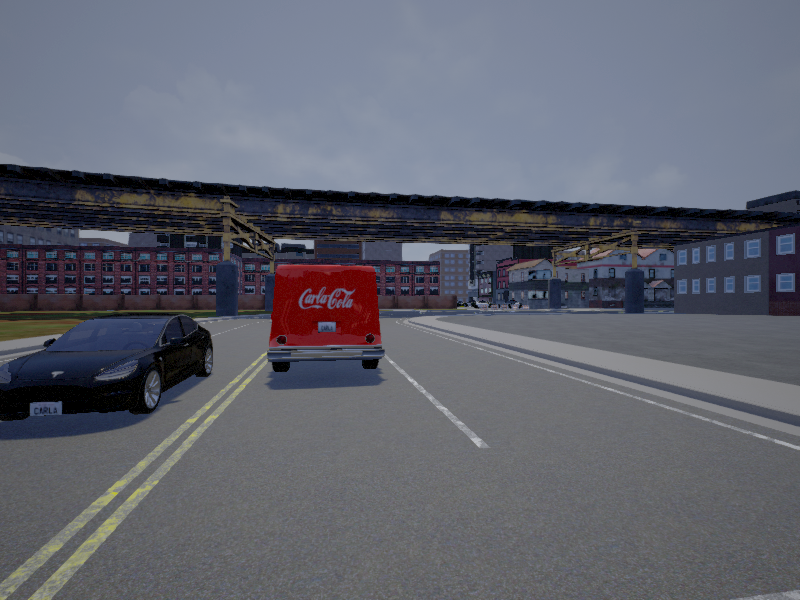Benign: (1, 315, 214, 423), (267, 263, 386, 371)
